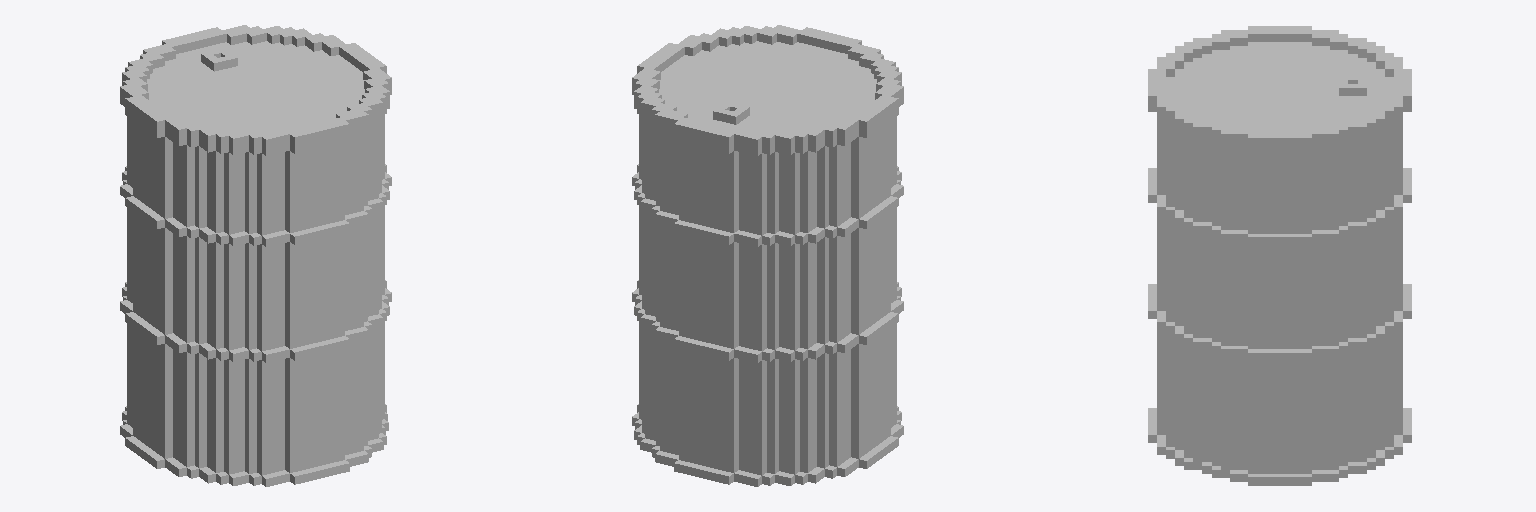
The model's file is SC_Barrel.obj.
The picture shows the model from 3 angles: view 1: azimuth 30°, elevation 25°; view 2: azimuth 150°, elevation 25°; view 3: azimuth 270°, elevation 25°; orthographic projection.
Parts seen in each view (by area): view 1: SC_Barrel; view 2: SC_Barrel; view 3: SC_Barrel.
Part boxes in pixels (x1,y1,x2,y2): SC_Barrel: (120, 25, 391, 486); SC_Barrel: (632, 25, 903, 486); SC_Barrel: (1148, 26, 1411, 485).
Size of the model in its own units: 29 by 42 by 29.